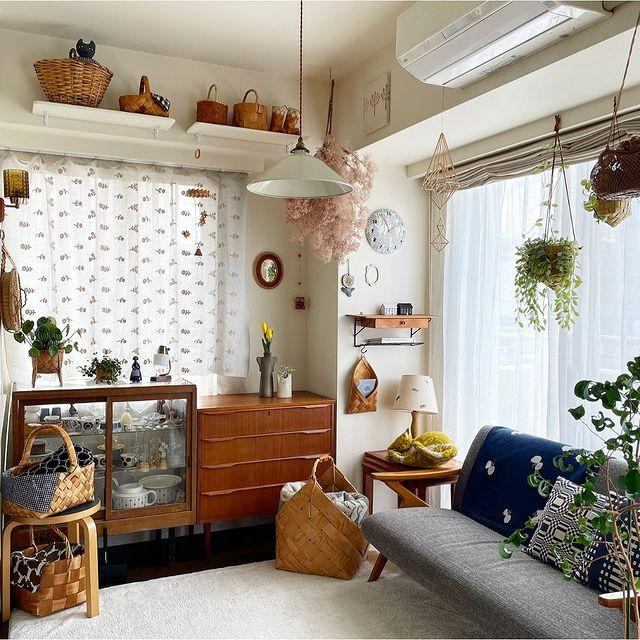vintage shelf: (11, 383, 200, 536), (194, 387, 339, 527)
vintage sofa: (361, 419, 640, 640)
